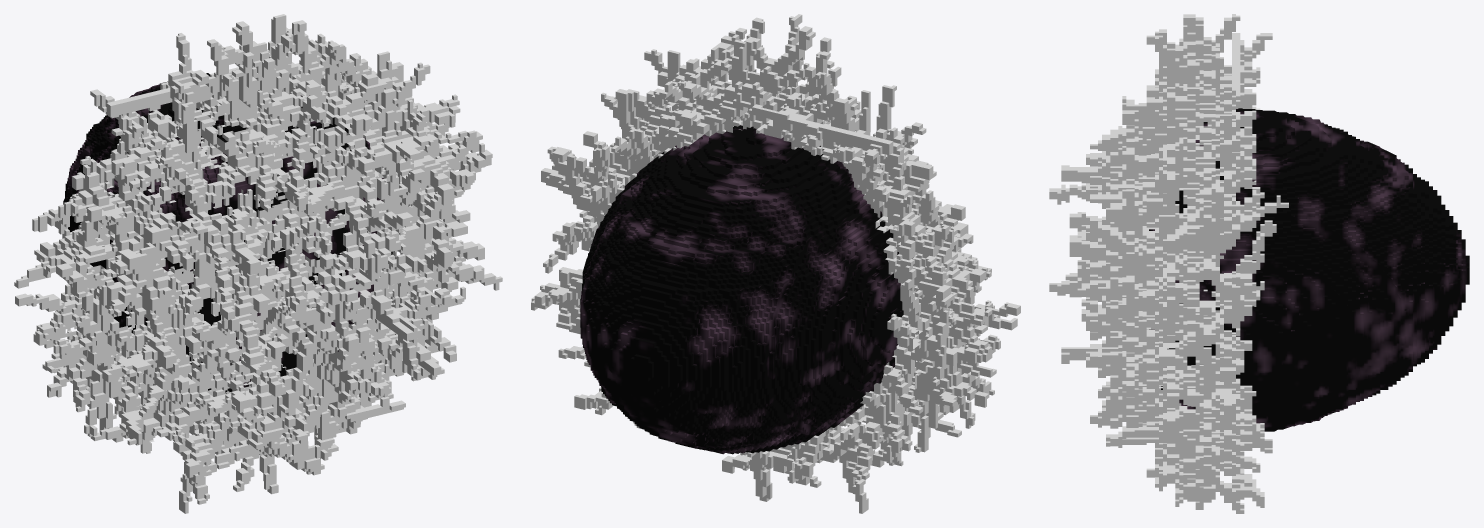
File: Model_Egg.fbx
The picture shows the model from 3 angles, left to right: view 1: azimuth 30°, elevation 25°; view 2: azimuth 150°, elevation 25°; view 3: azimuth 270°, elevation 25°; orthographic projection.
Parts seen in each view (by area): view 1: Sphere.002; view 2: Sphere.002; view 3: Sphere.002.
Part boxes in pixels (bbox=[...]): Sphere.002: bbox=[14, 14, 502, 513]; Sphere.002: bbox=[531, 14, 1020, 513]; Sphere.002: bbox=[1049, 14, 1469, 513].
Size of the model in its own units: 680 by 645 by 518.
